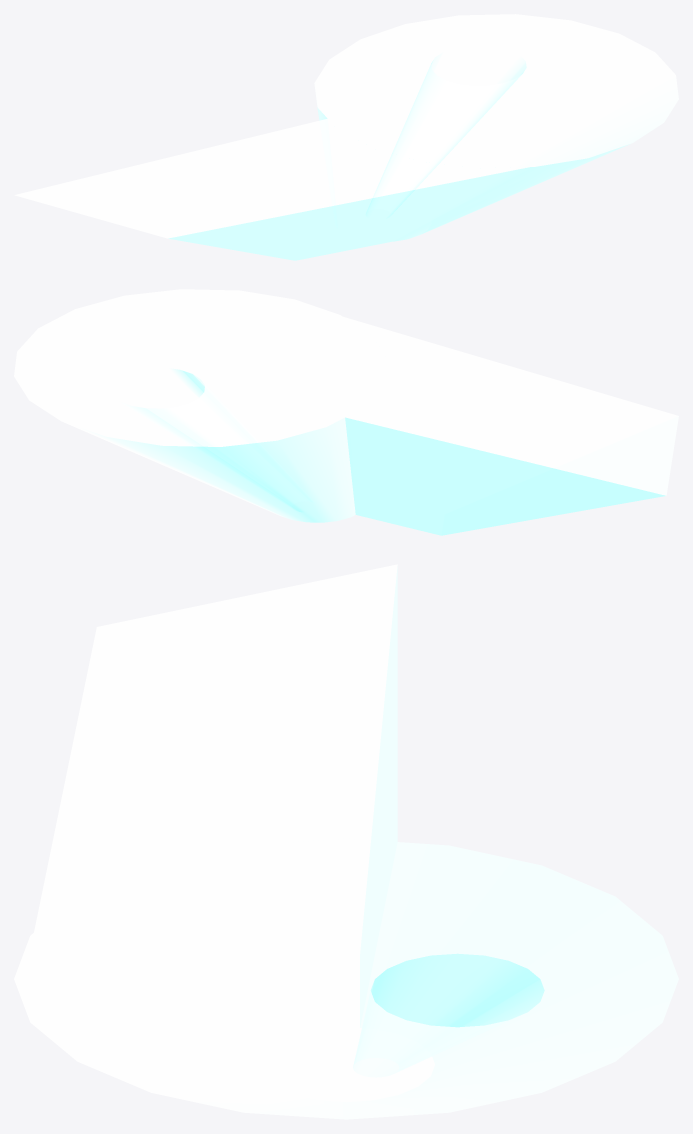
Rendered from GlassTableFO1.fbx.
3 views of the same model, one above another, from view 1: azimuth 30°, elevation 25°; view 2: azimuth 150°, elevation 25°; view 3: azimuth 270°, elevation 25° (orthographic). The views are drawn at different scales.
Visible parts, largest first — view 1: pasted__polySurface8; view 2: pasted__polySurface8; view 3: pasted__polySurface8.
Boxes of the visible parts, x1,y1,x2,y2 form: pasted__polySurface8: (14,14,678,260); pasted__polySurface8: (14,289,678,535); pasted__polySurface8: (14,564,678,1119).
Size of the model in its own units: 11.38 by 1.78 by 5.76.
